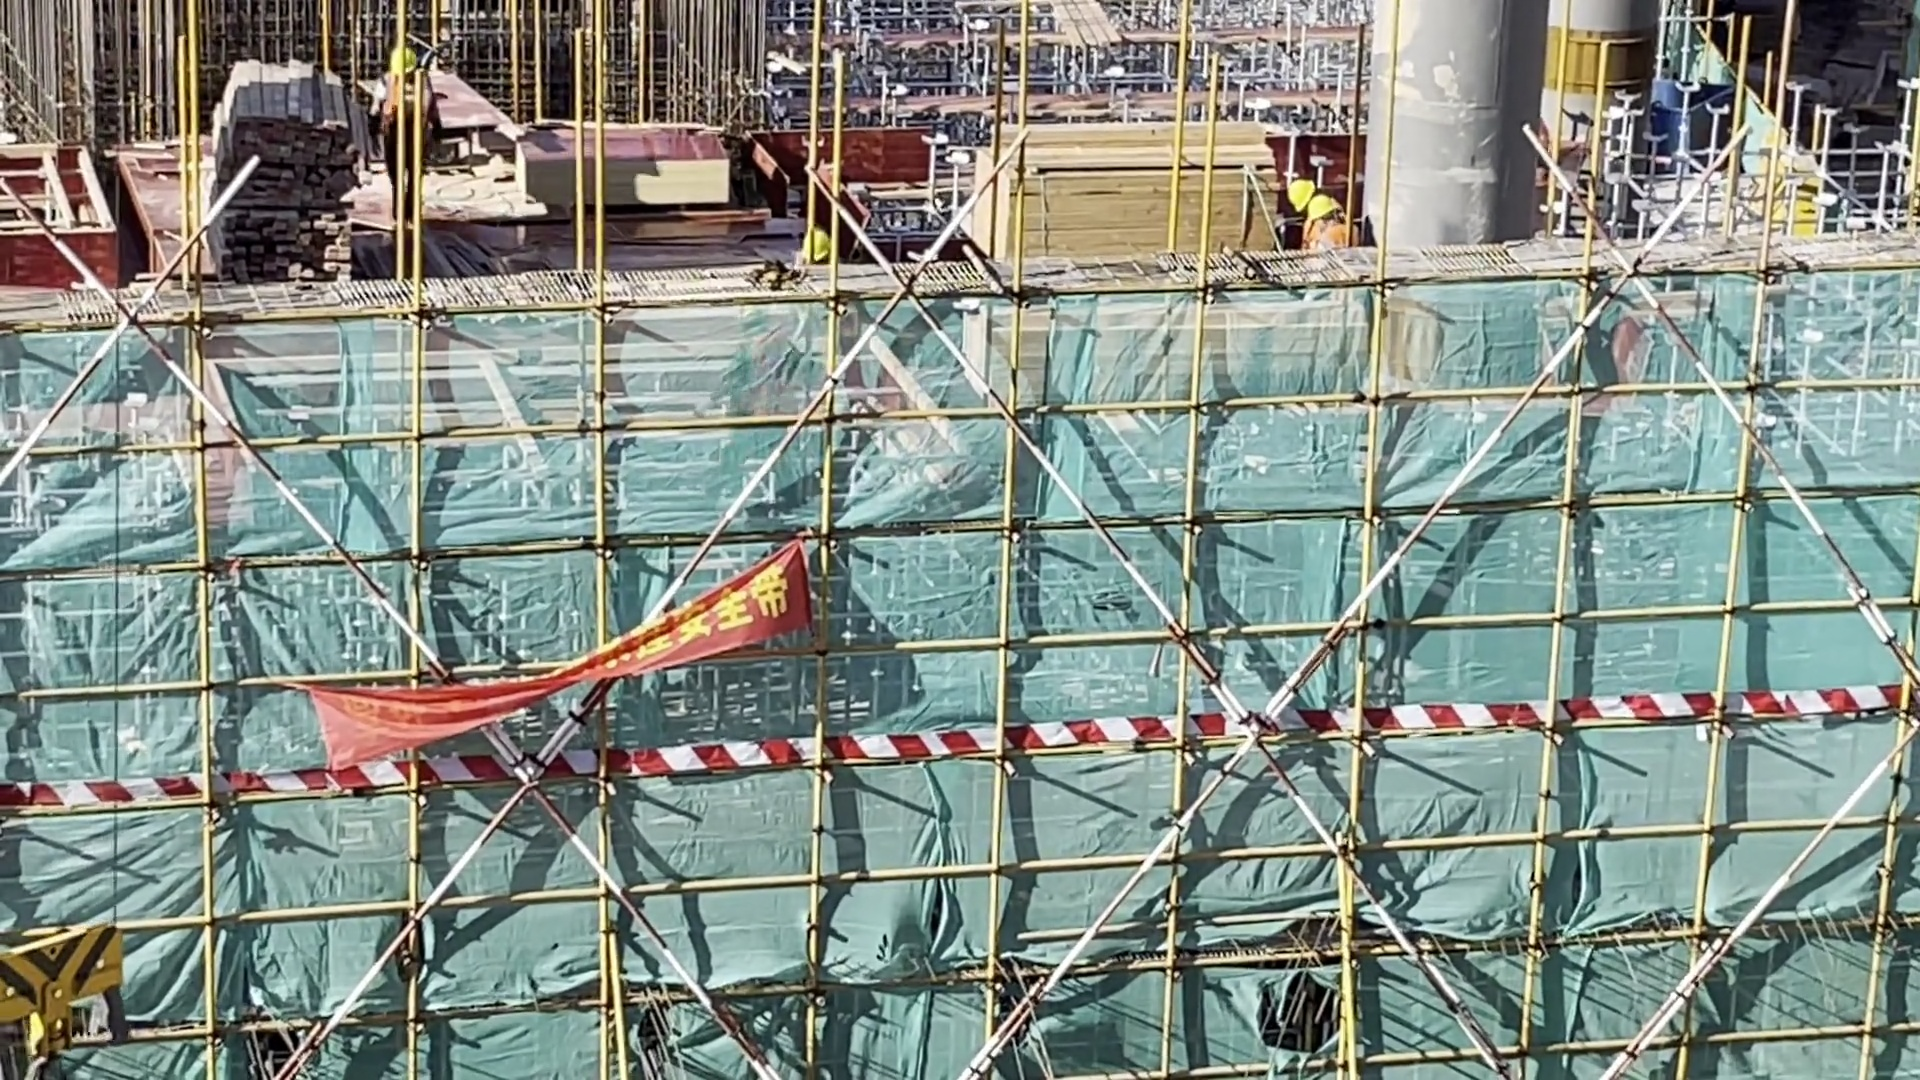helmet: (1291, 170, 1341, 219), (389, 47, 417, 74)
hopper: (1641, 75, 1743, 172)
person: (362, 39, 440, 228), (1273, 179, 1367, 256)
slogan: (304, 535, 814, 763)
wood: (966, 118, 1283, 262), (209, 52, 359, 288)
